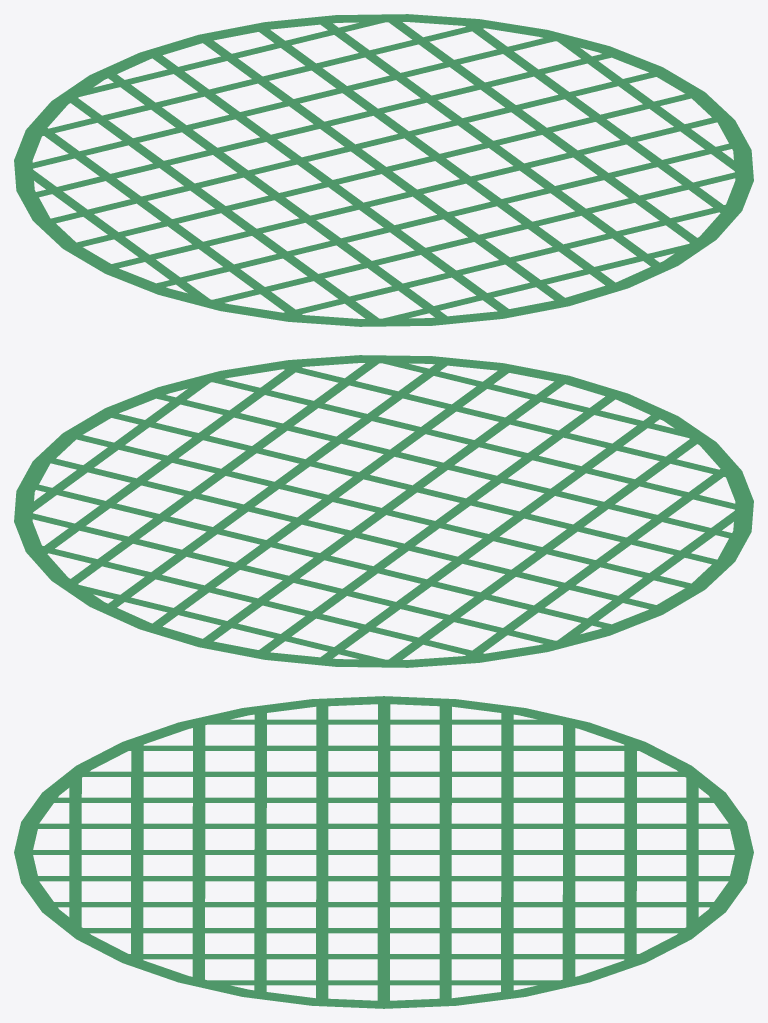
Rendered from MedBay-beam.glb.
3 renders of one model, top to bottom at view 1: azimuth 30°, elevation 25°; view 2: azimuth 150°, elevation 25°; view 3: azimuth 270°, elevation 25°, orthographic.
Visible parts, largest first — view 1: Circle; view 2: Circle; view 3: Circle.
Part boxes in pixels (box(x1,y1,x2,y2)): Circle: box(14, 14, 753, 326); Circle: box(14, 355, 753, 667); Circle: box(14, 696, 753, 1008).
Size of the model in its own units: 6 by 0 by 6.
